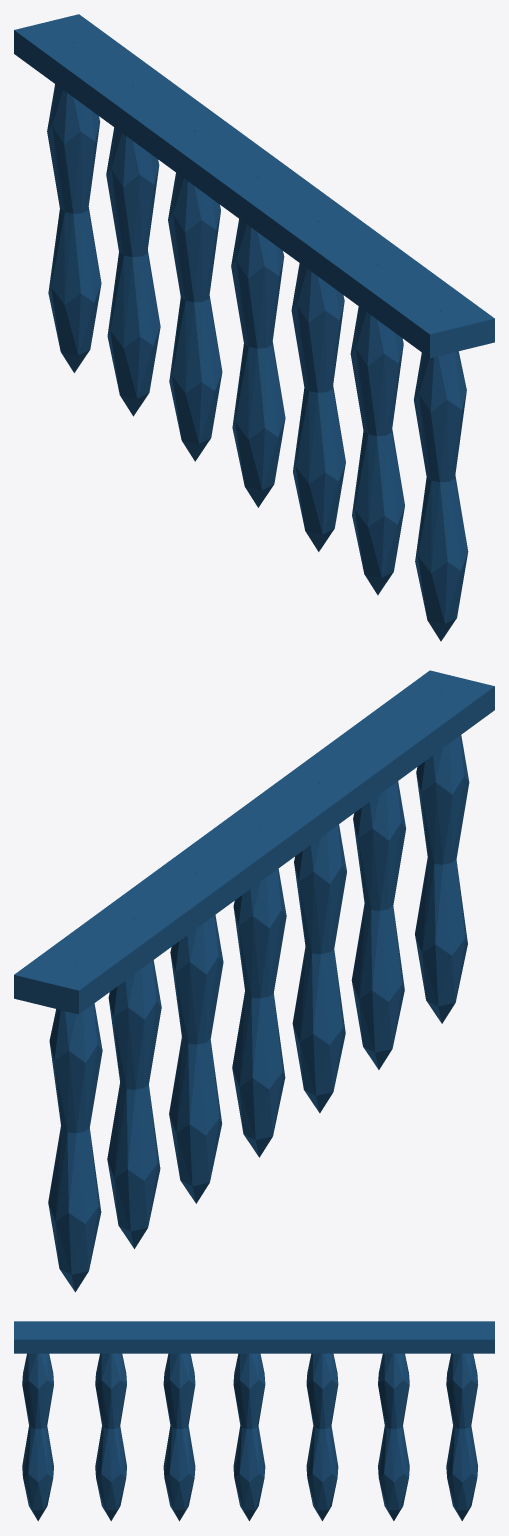
The model's file is corrimão.fbx.
3 views of the same model, one above another, from view 1: azimuth 30°, elevation 25°; view 2: azimuth 150°, elevation 25°; view 3: azimuth 270°, elevation 25° (orthographic). The views are drawn at different scales.
Visible parts, largest first — view 1: Icosphere; view 2: Icosphere; view 3: Icosphere.
Part boxes in pixels (x1,y1,x2,y2): Icosphere: [14, 14, 494, 641]; Icosphere: [14, 670, 494, 1292]; Icosphere: [14, 1321, 494, 1521].
Size of the model in its own units: 61.62 by 300 by 682.
